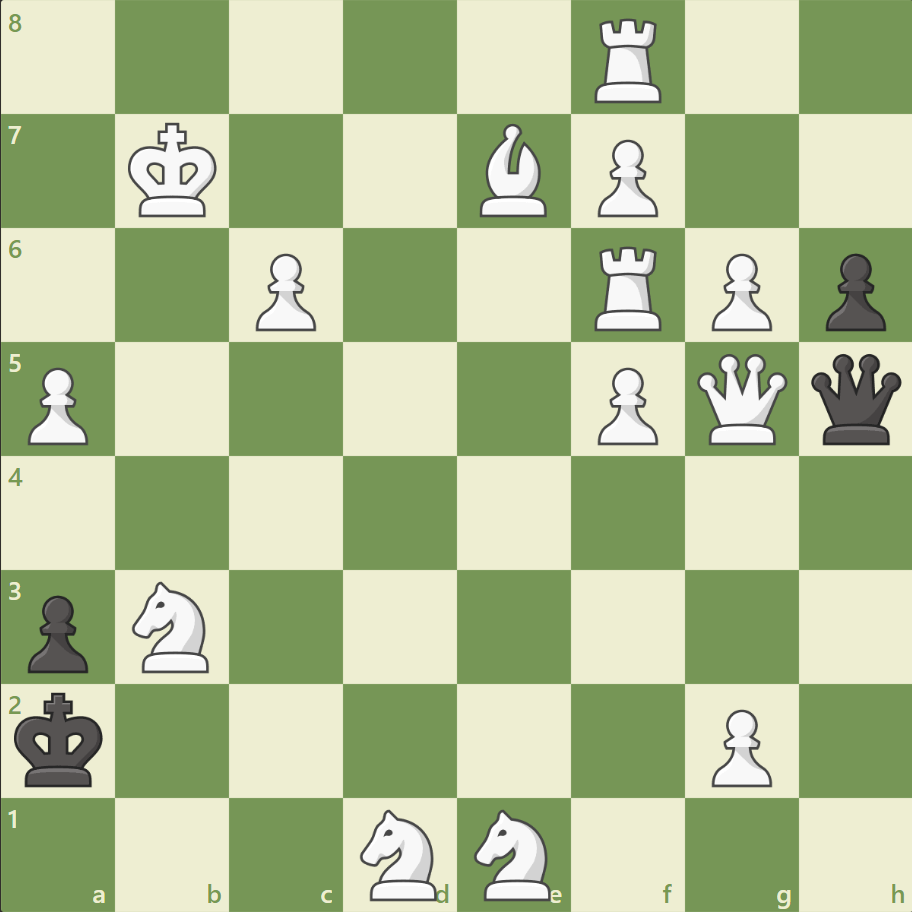B: (471, 120, 555, 222)
K: (124, 117, 224, 225)
N: (124, 575, 222, 677), (351, 802, 449, 904), (465, 802, 562, 904)
P: (247, 246, 322, 337), (701, 246, 776, 337), (20, 359, 95, 450), (701, 700, 776, 791), (588, 132, 662, 223), (588, 359, 662, 450)
Q: (691, 349, 790, 449)
R: (587, 12, 670, 109), (587, 239, 670, 336)
k: (11, 685, 111, 793)
p: (20, 586, 95, 677), (815, 246, 889, 337)
q: (805, 349, 904, 449)
